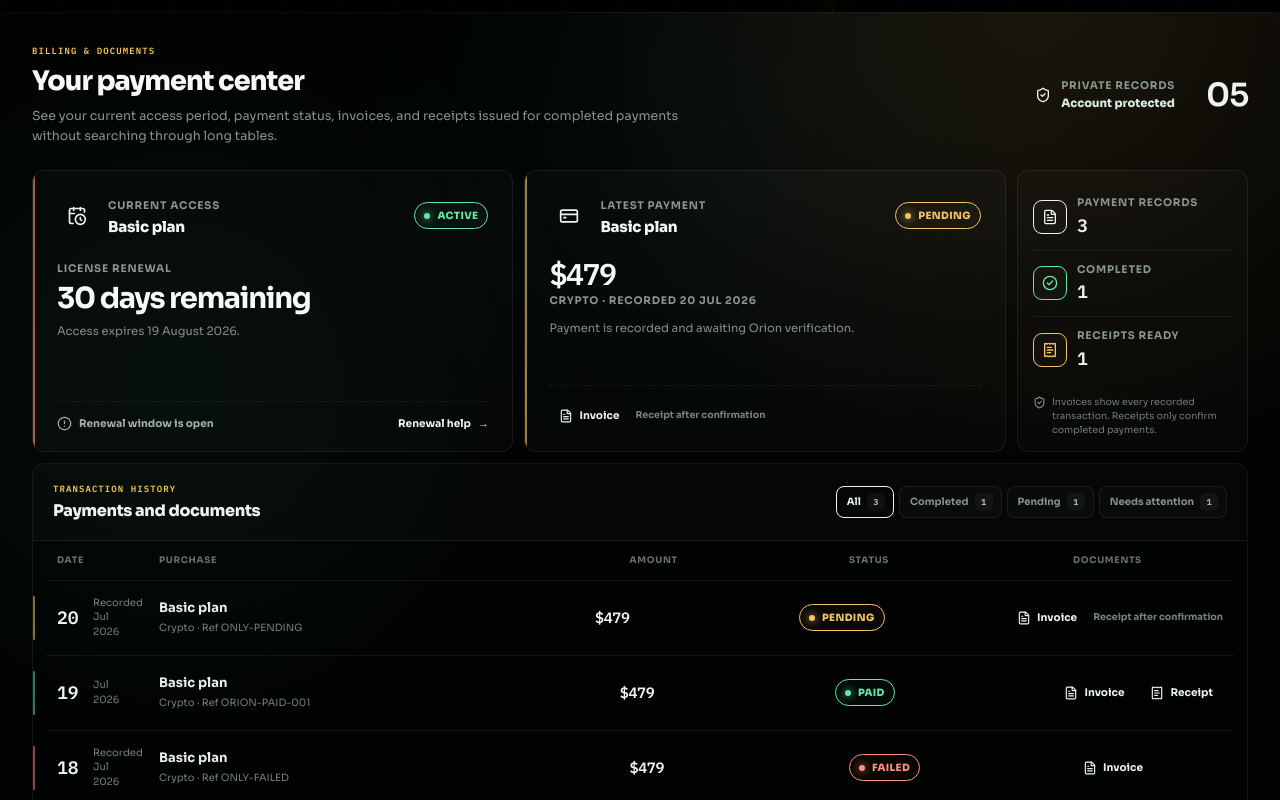
Test: Billing and Documents Center › filters completed, pending, and attention records without changing their status truth
Click the button "Pending 1": (1050, 502) top-left (1007, 486), bottom-right (1094, 518)
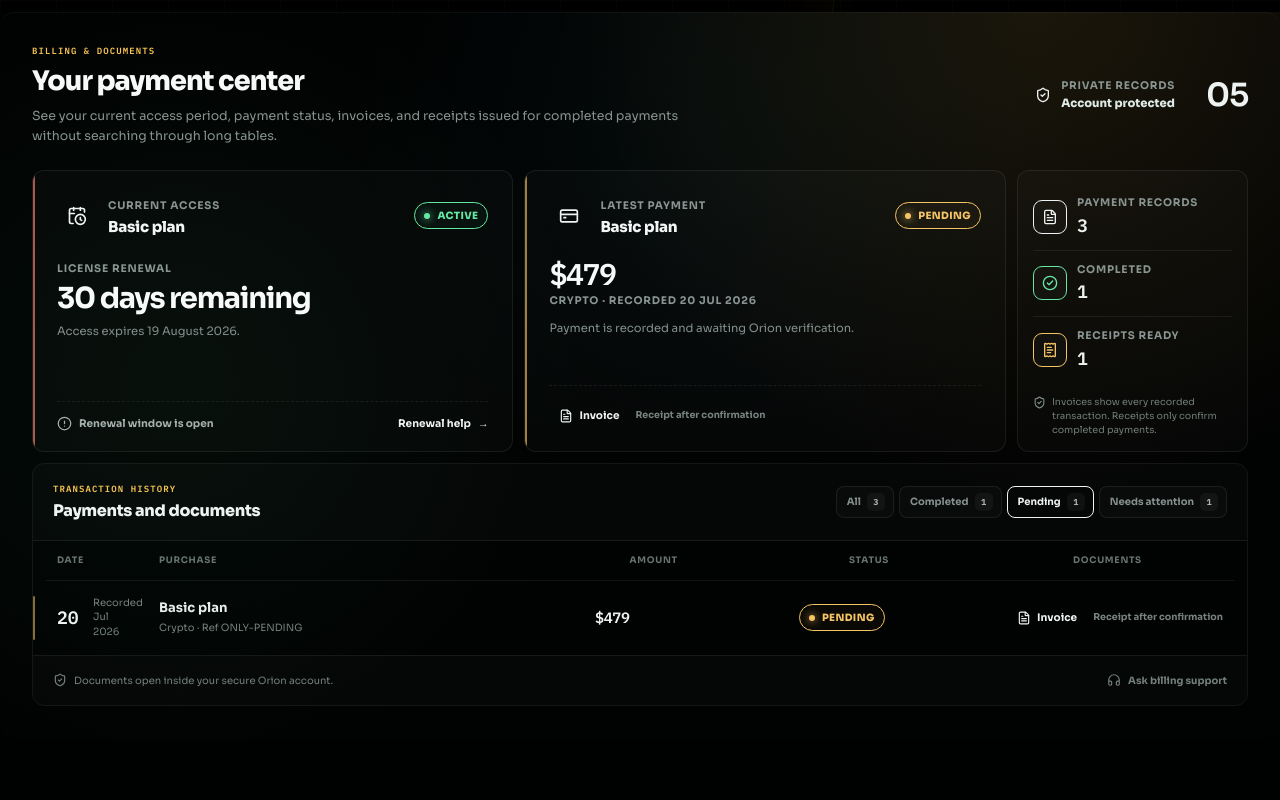
Check: the text "Crypto · Ref ONLY-PENDING" is shown, box top-left (159, 621), bottom-right (302, 634)
Check: the text "ONLY-FAILED" is gone
Click the button "Needs attention 1": (1163, 502) top-left (1099, 486), bottom-right (1227, 518)
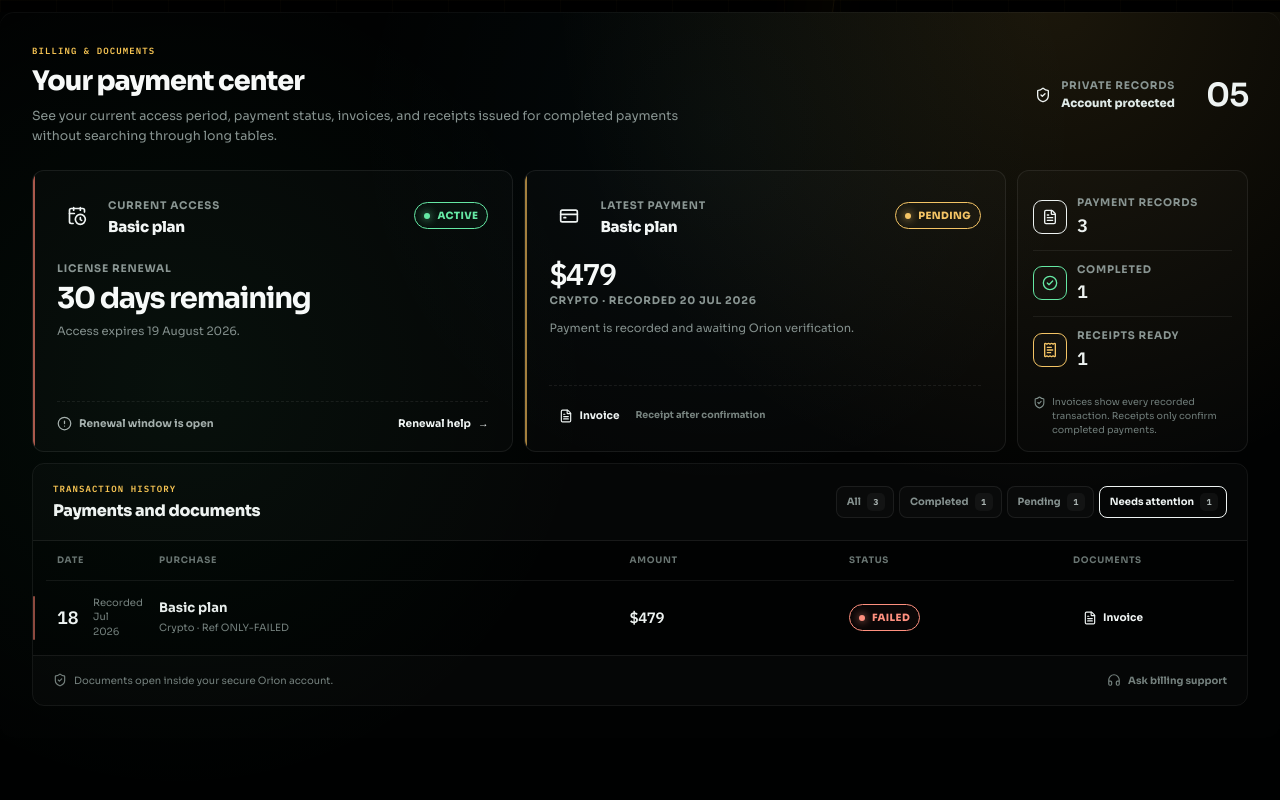
Check: the text "Crypto · Ref ONLY-FAILED" is shown, box top-left (159, 621), bottom-right (289, 634)
Check: the text "ONLY-PENDING" is gone
